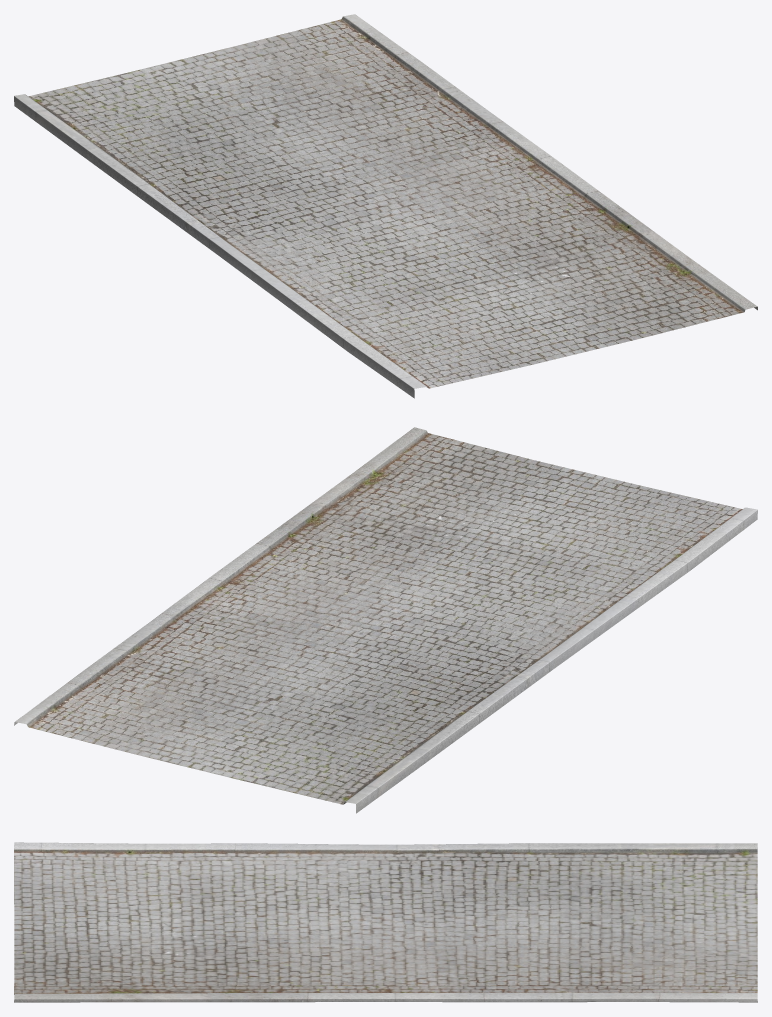
File: cobblestone_road_d1fdf1b4.glb
3 views of the same model, one above another, from view 1: azimuth 30°, elevation 25°; view 2: azimuth 150°, elevation 25°; view 3: azimuth 270°, elevation 25° (orthographic). The views are drawn at different scales.
Visible parts, largest first — view 1: cobblestone_road_d1fdf1b4; view 2: cobblestone_road_d1fdf1b4; view 3: cobblestone_road_d1fdf1b4.
Boxes of the visible parts, bbox=[...] form: cobblestone_road_d1fdf1b4: bbox=[14, 14, 757, 398]; cobblestone_road_d1fdf1b4: bbox=[14, 427, 757, 813]; cobblestone_road_d1fdf1b4: bbox=[14, 842, 757, 1002].
Bounding box in the file's own units: 3.64 × 0.1186 × 7.36.
Materials: 1 (1 with a texture image).
